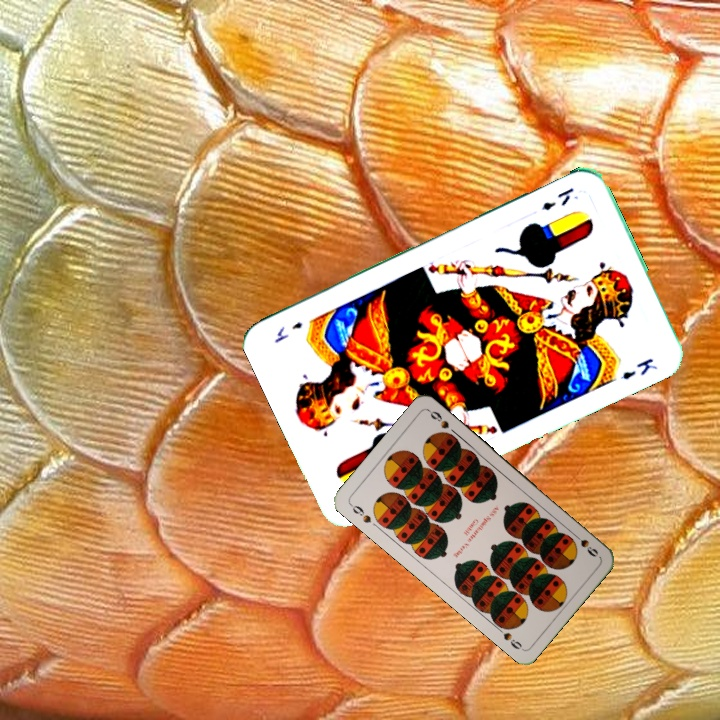EK: (537, 183, 576, 213)
S9: (568, 529, 601, 560), (346, 500, 374, 526)
